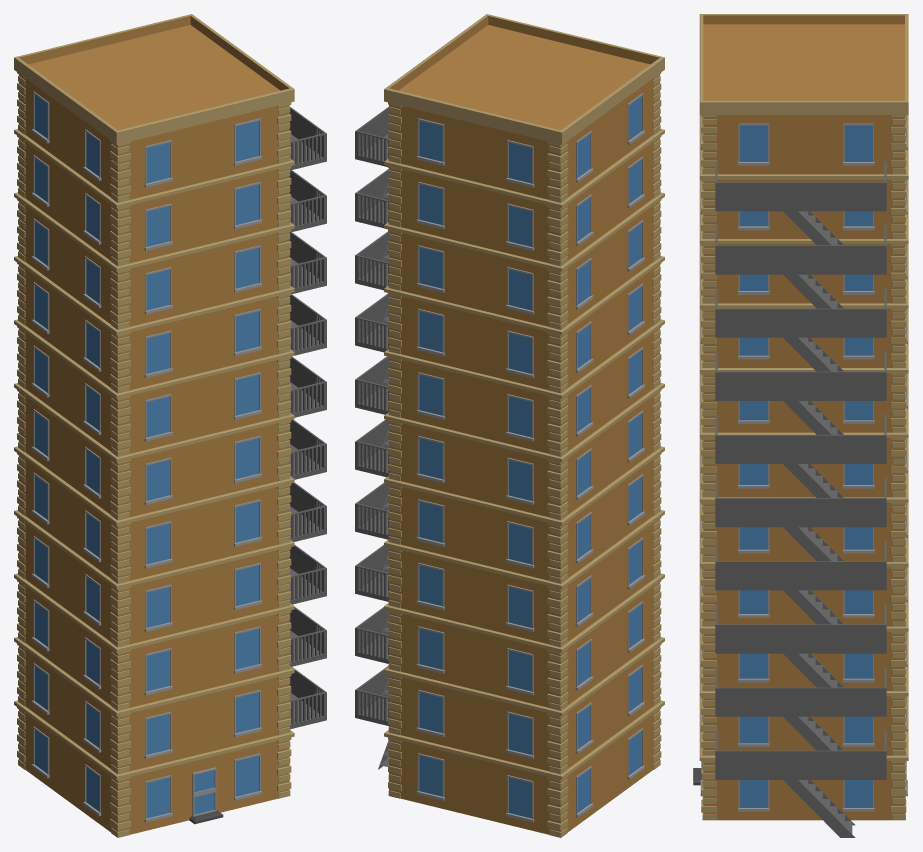
Rendered from GebouwGeelHoog.fbx.
3 renders of one model, left to right at view 1: azimuth 30°, elevation 25°; view 2: azimuth 150°, elevation 25°; view 3: azimuth 270°, elevation 25°, orthographic.
Parts seen in each view (by area): view 1: gebouwGeelHoog; view 2: gebouwGeelHoog; view 3: gebouwGeelHoog.
Part boxes in pixels (left/top/right/bottom): gebouwGeelHoog: left=14, top=14, right=326, bottom=837; gebouwGeelHoog: left=355, top=14, right=664, bottom=837; gebouwGeelHoog: left=693, top=14, right=908, bottom=837.
Bounding box in the file's own units: 762 × 2364 × 642.
